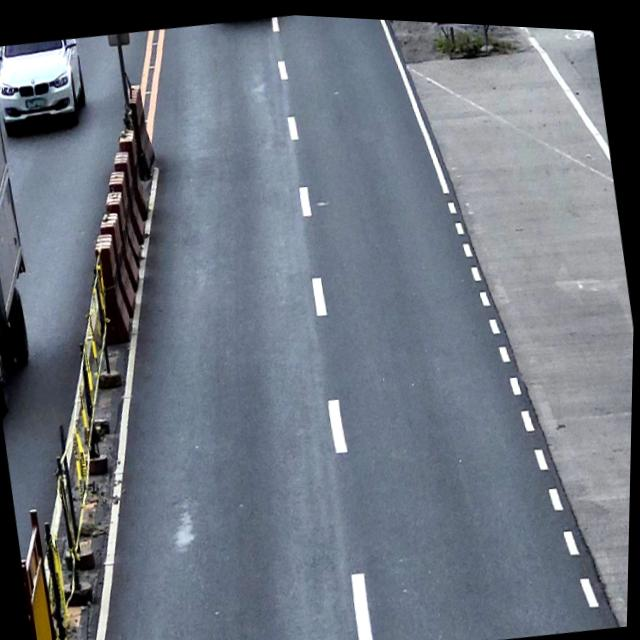Car: (0, 34, 91, 138)
License-Plate: (24, 93, 47, 111)
Truck: (0, 47, 53, 411)
